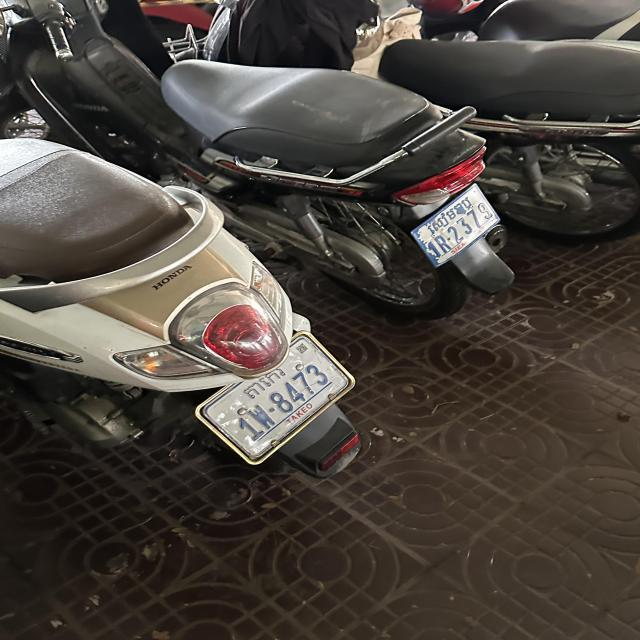Siem_Reap: (426, 196, 472, 234)
Takeo: (243, 364, 295, 392)
